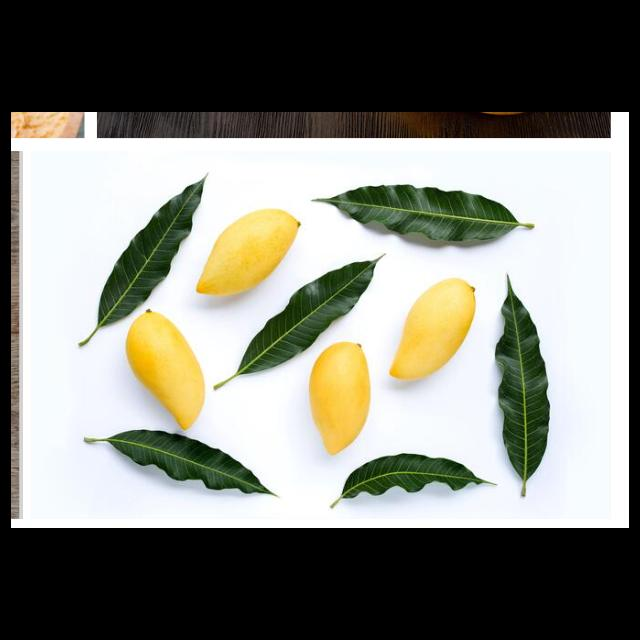mango: (125, 309, 205, 430), (387, 275, 477, 382), (194, 207, 301, 295), (309, 341, 372, 456)
